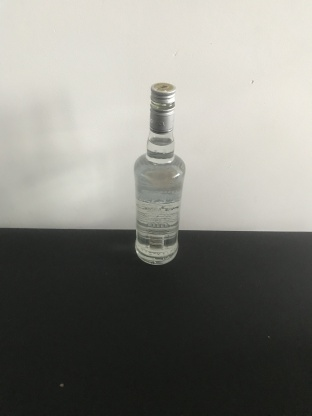nakretka: (148, 80, 177, 134)
